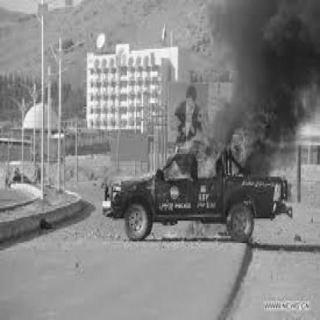Fire: (162, 218, 222, 242)
Smoke: (206, 0, 318, 166)
